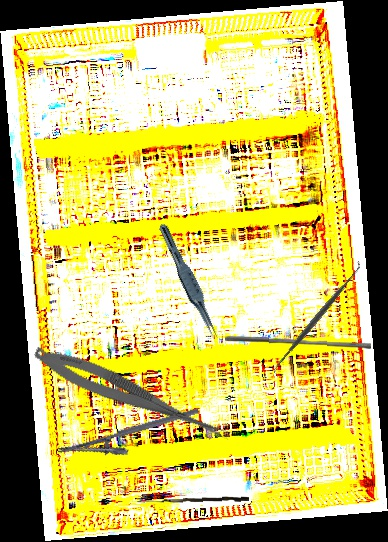Hook Surgical: (136, 495, 250, 507)
Micro Scissor: (29, 340, 237, 447)
Needle Holder: (57, 407, 205, 473)
Pusher: (224, 335, 372, 350)
Spatula Surgical: (266, 259, 368, 376)
Tissue Forceps: (151, 222, 226, 342)
